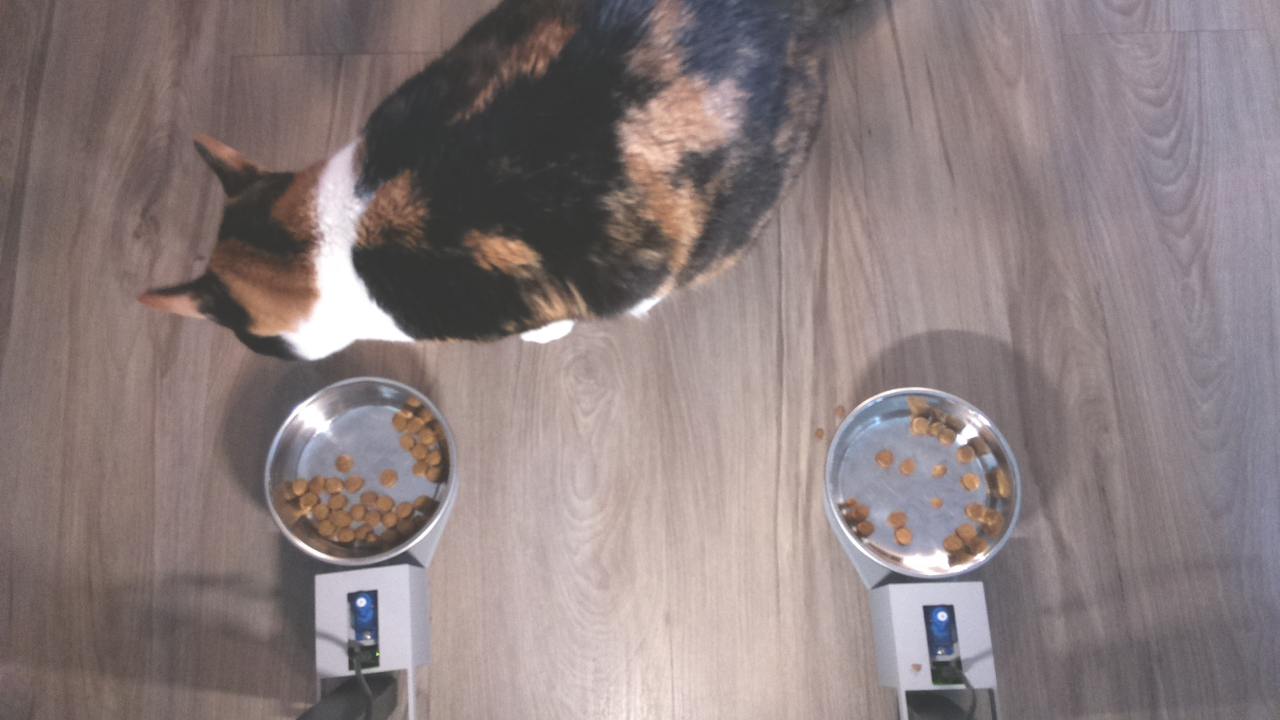bella: (128, 134, 404, 357)
open_bowl: (257, 368, 463, 578), (819, 380, 1029, 582)
